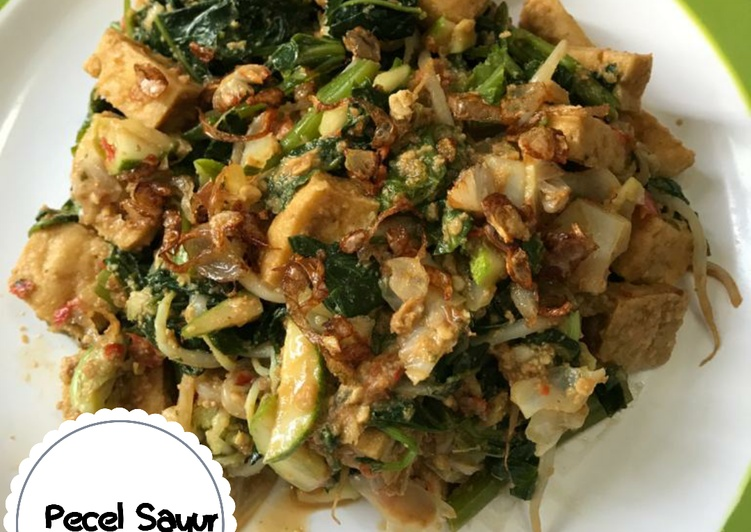pecel: (22, 11, 729, 442)
